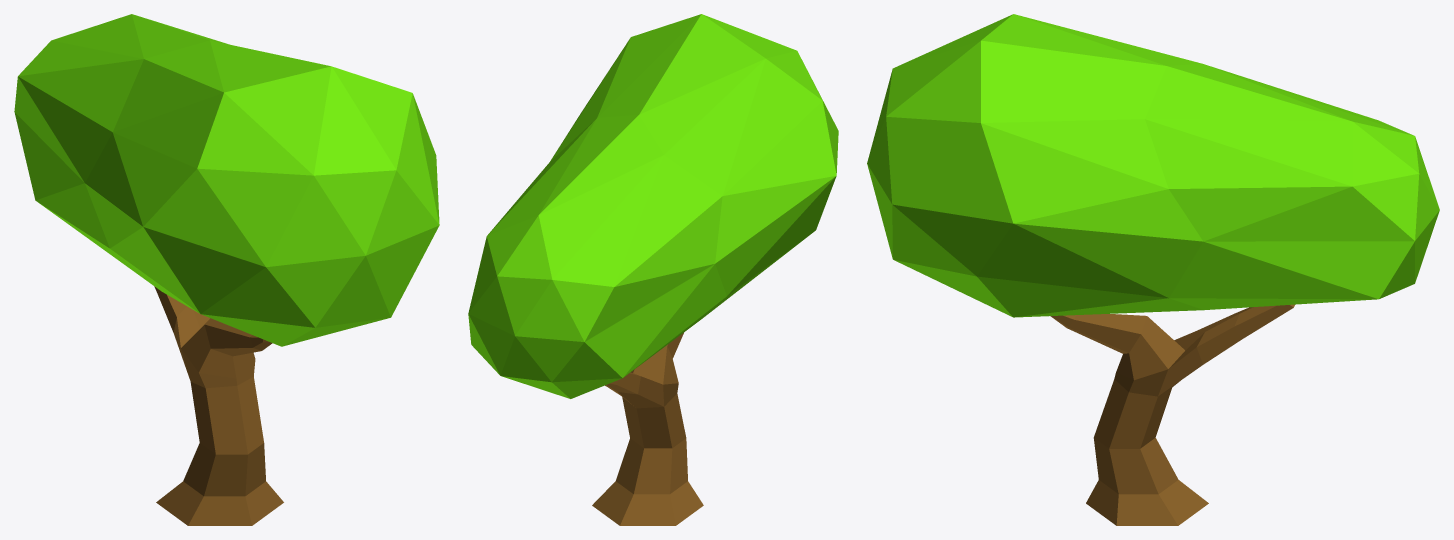
The model's file is kyst.fbx.
3 renders of one model, left to right at view 1: azimuth 30°, elevation 25°; view 2: azimuth 150°, elevation 25°; view 3: azimuth 270°, elevation 25°, orthographic. The views are drawn at different scales.
Parts seen in each view (by area): view 1: Icosphere, Cylinder; view 2: Icosphere, Cylinder; view 3: Icosphere, Cylinder.
Boxes of the visible parts, left/top/right/bottom form: Icosphere: left=14, top=14, right=439, bottom=346; Cylinder: left=154, top=286, right=283, bottom=525; Icosphere: left=468, top=14, right=838, bottom=398; Cylinder: left=592, top=333, right=703, bottom=525; Icosphere: left=867, top=14, right=1439, bottom=317; Cylinder: left=1050, top=304, right=1294, bottom=525.
Size of the model in its own units: 24.92 by 43.86 by 40.09.
